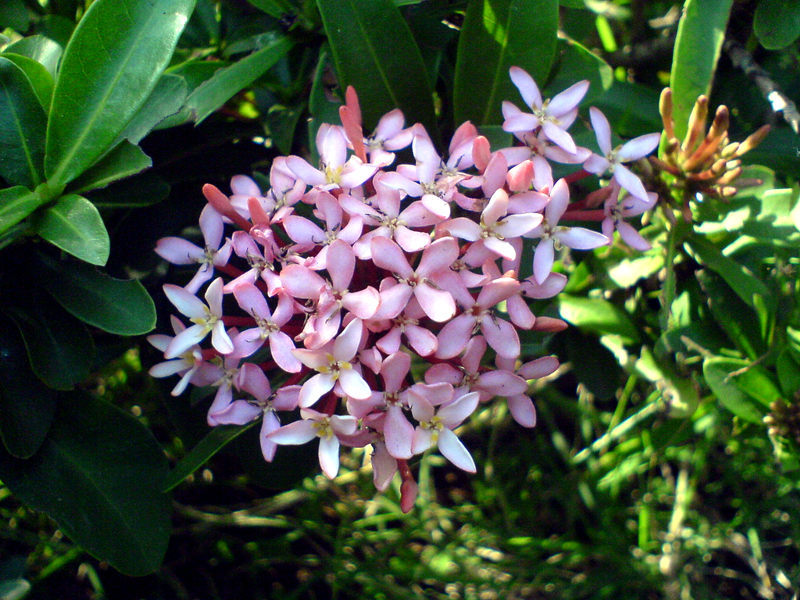ixora: (280, 245, 373, 340), (368, 236, 460, 321), (516, 187, 607, 269), (583, 110, 662, 200), (355, 353, 428, 450), (151, 209, 231, 292), (432, 345, 526, 414), (437, 273, 514, 356), (506, 70, 582, 153), (227, 369, 296, 456), (340, 191, 434, 253), (294, 330, 372, 402), (409, 391, 476, 472), (285, 133, 372, 190), (446, 204, 543, 255), (162, 285, 228, 357), (280, 415, 357, 474), (387, 162, 454, 218)
